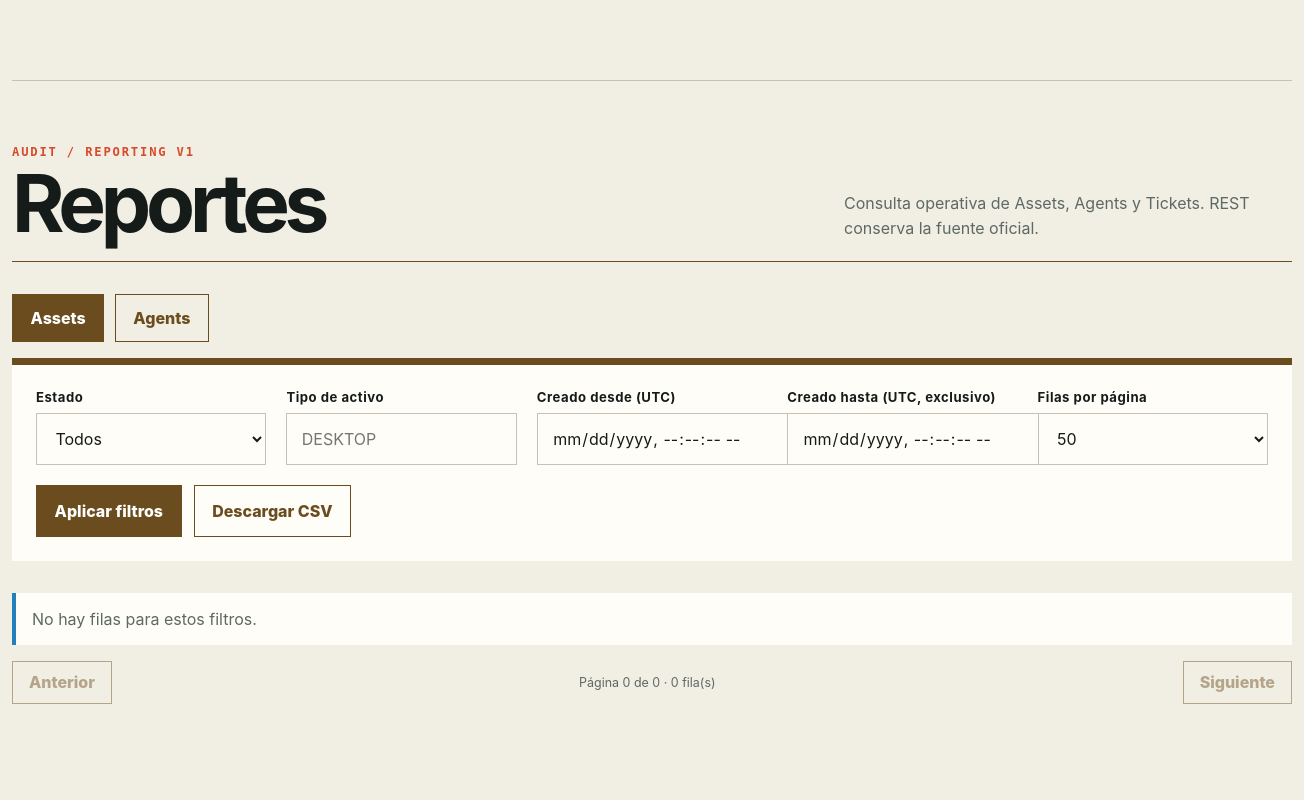
Scenario: ReportingWorkspace › validates filters locally and publishes applied filters and pagination in the URL
Expected: the text "No hay filas para estos filtros." is shown, x1=12 y1=593 x2=1292 y2=645
Type "lowercase" into the field labelled "Tipo de activo" at (402, 439), box x1=286 y1=413 x2=517 y2=465
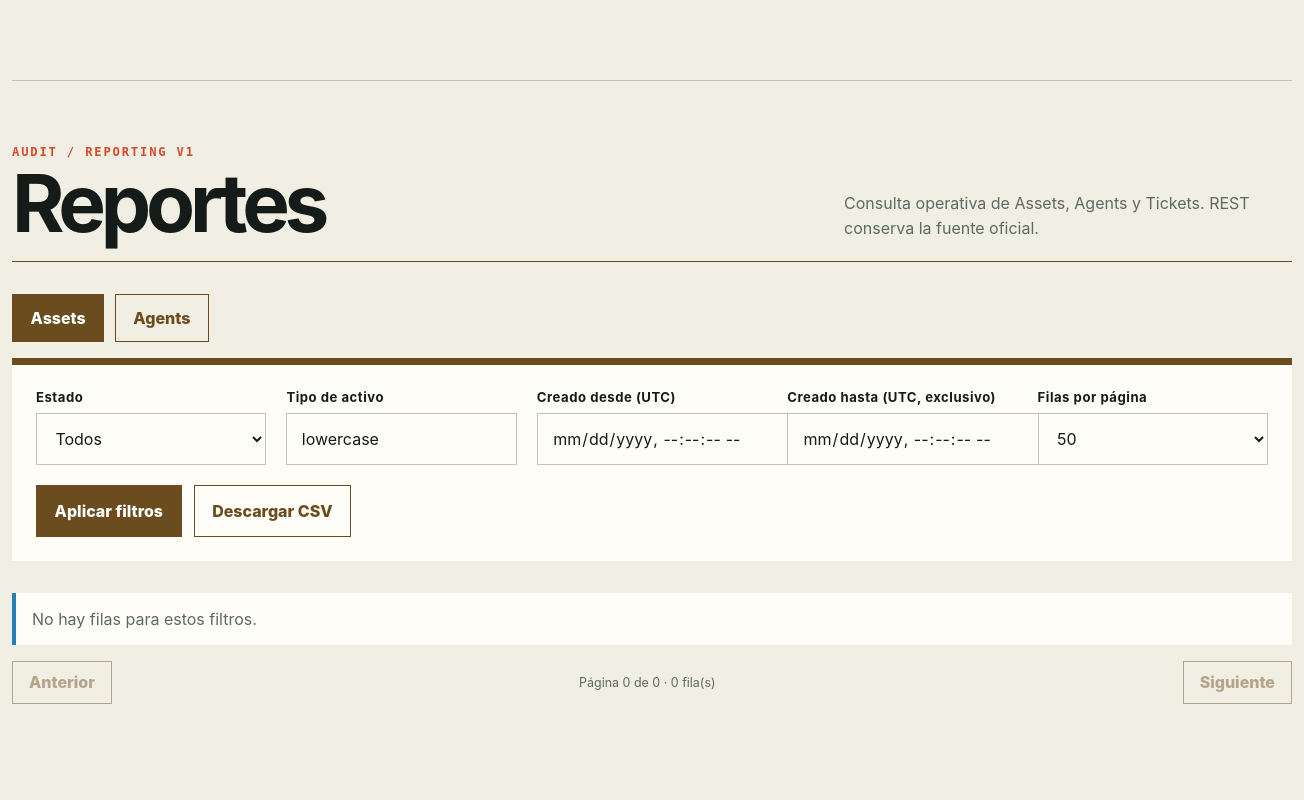
Submit the form named "Filtros del reporte de Assets", box x1=12 y1=358 x2=1292 y2=561
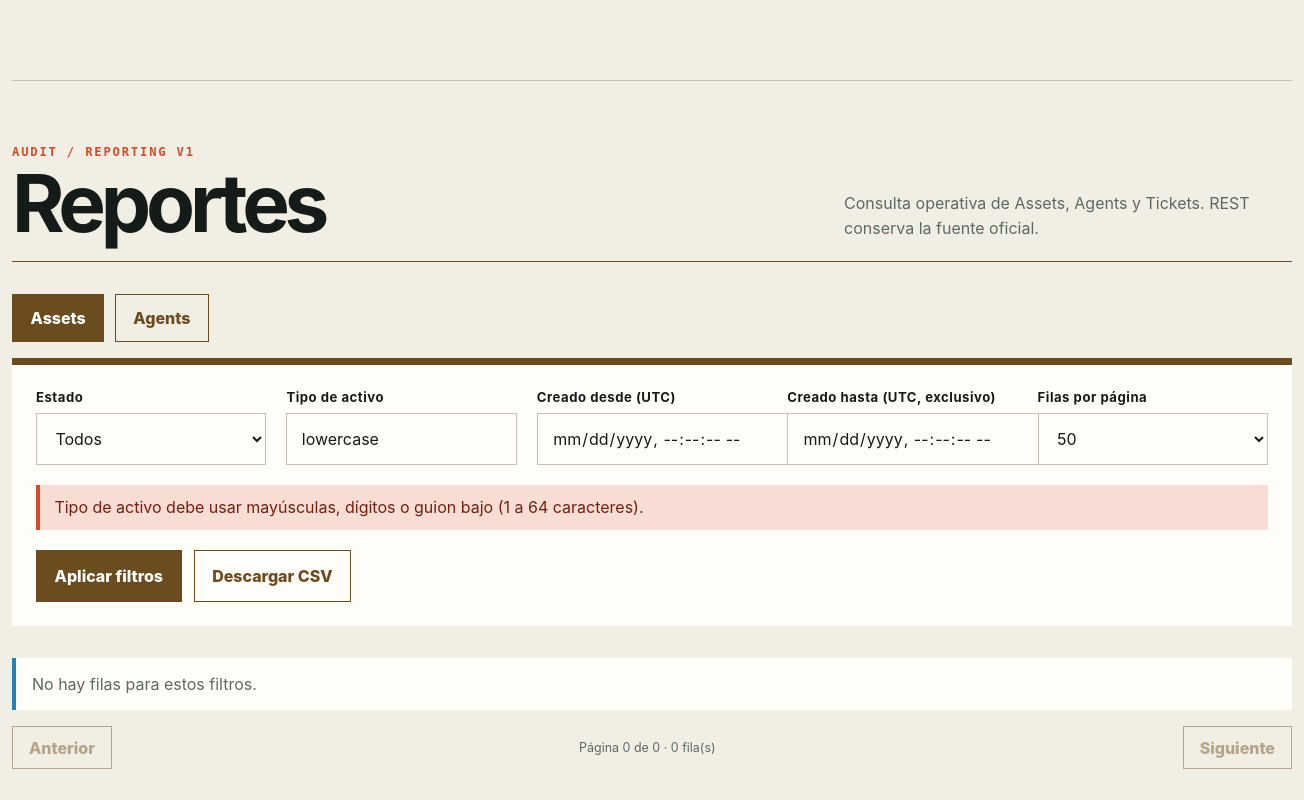
Result: the message shows "Tipo de activo" at x1=54 y1=497 x2=644 y2=517
Clear the field labelled "Tipo de activo" at (402, 439), box x1=286 y1=413 x2=517 y2=465
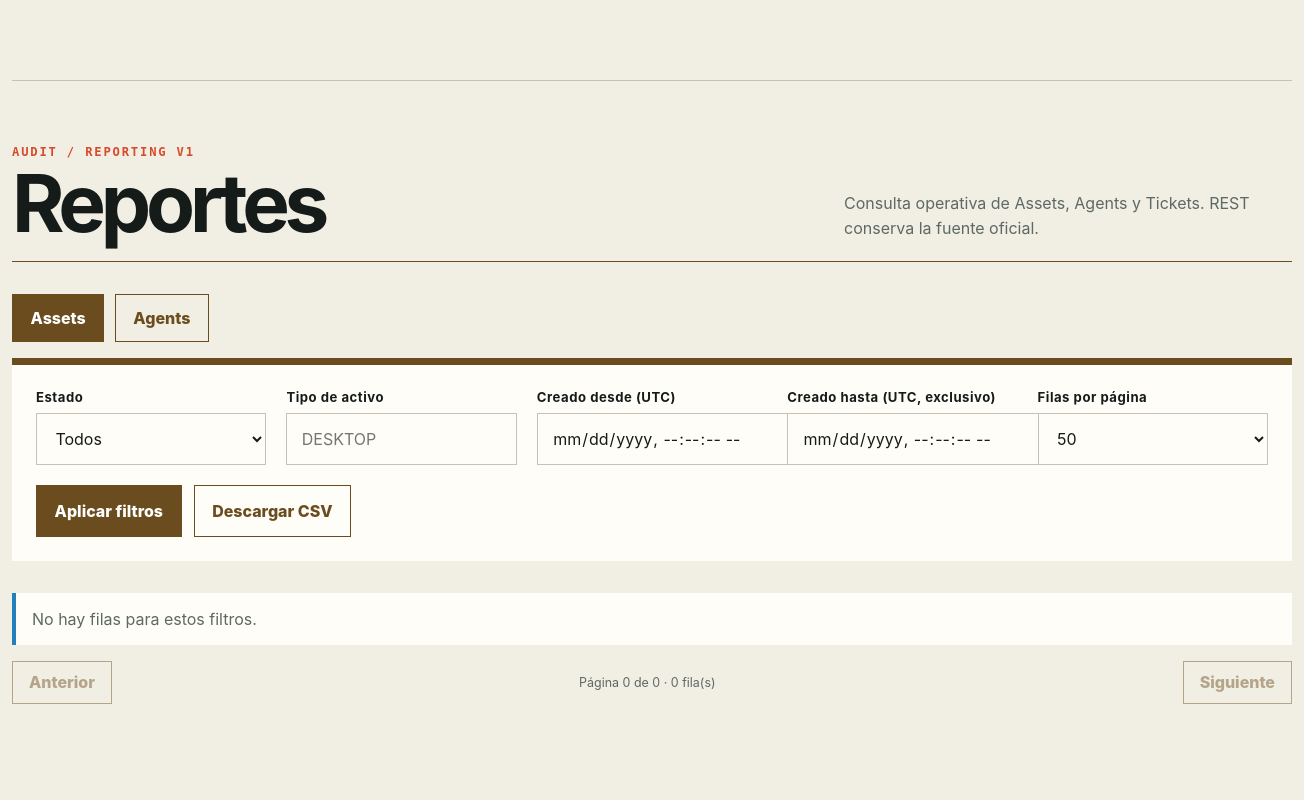
Select "ACTIVE" in the dropdown labelled "Estado" at (151, 439), box x1=36 y1=413 x2=266 y2=465
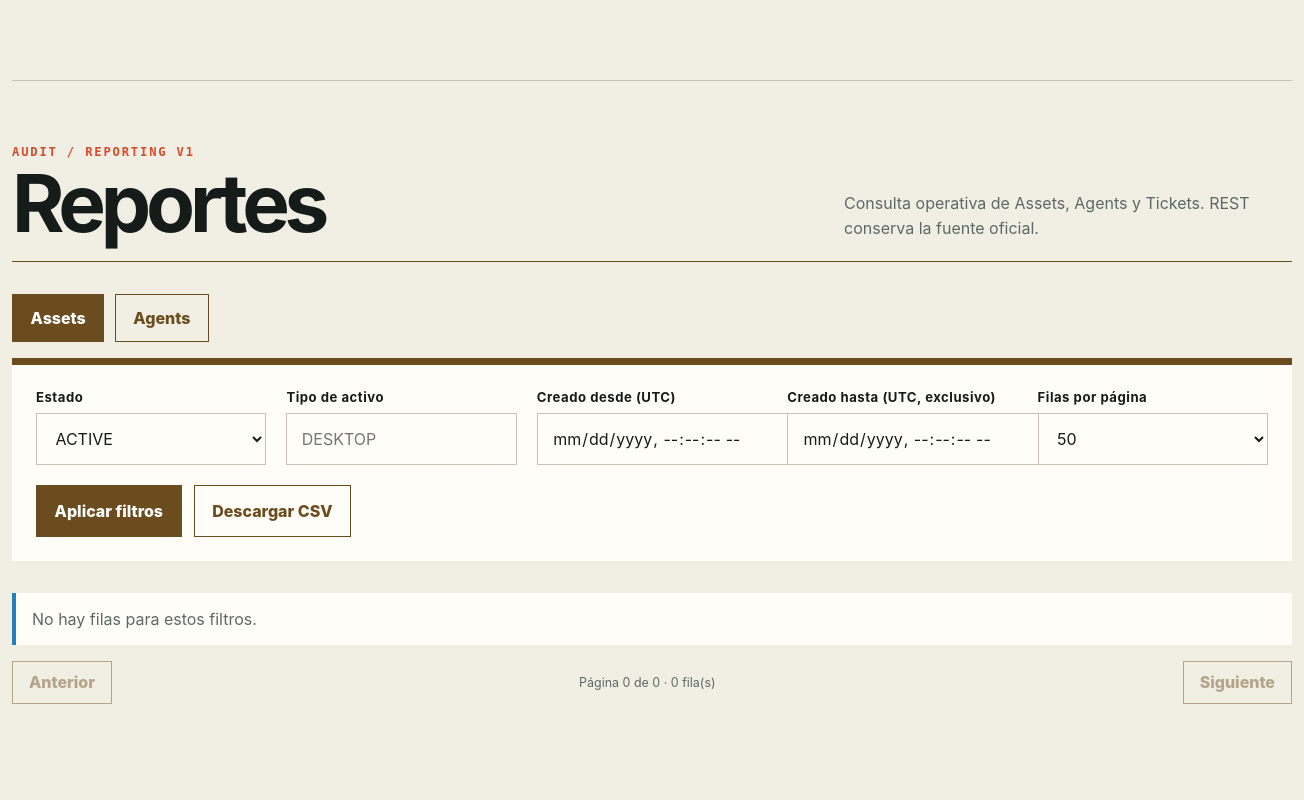
Click the button "Aplicar filtros" at (109, 511), box x1=36 y1=485 x2=182 y2=537
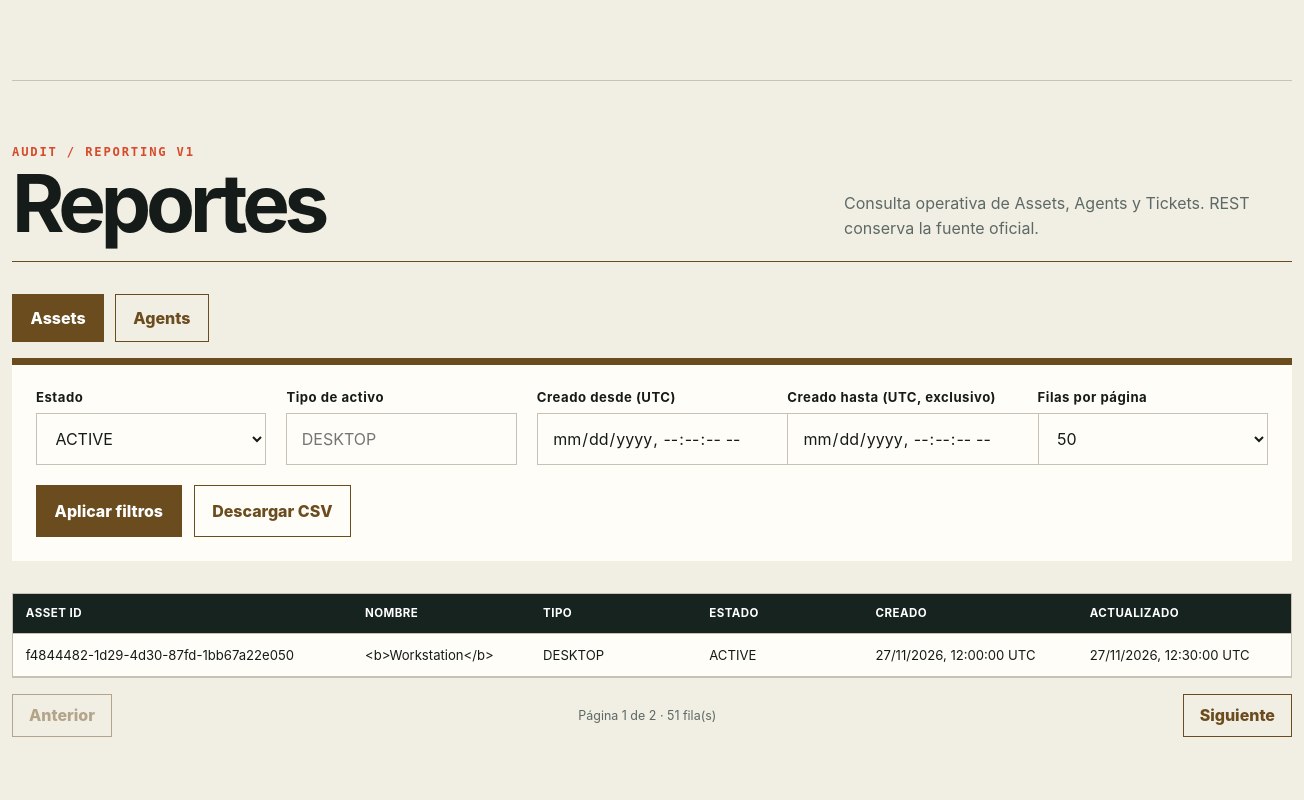
Result: the text "Página 1 de 2 · 51 fila(s)" is shown at x1=578 y1=708 x2=716 y2=723
Click the button "Siguiente" at (1237, 715), box x1=1183 y1=694 x2=1292 y2=737
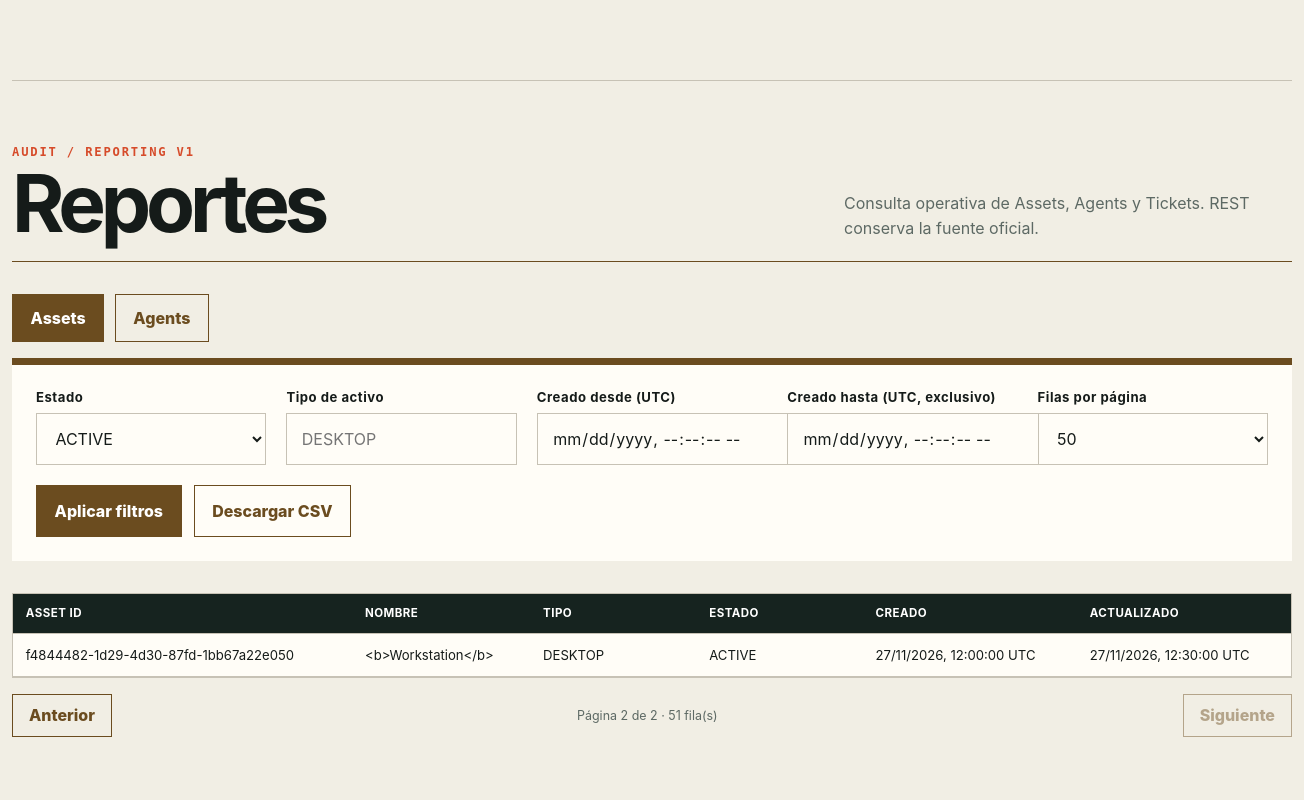
Result: the text "Página 2 de 2 · 51 fila(s)" is shown at x1=577 y1=708 x2=718 y2=723
